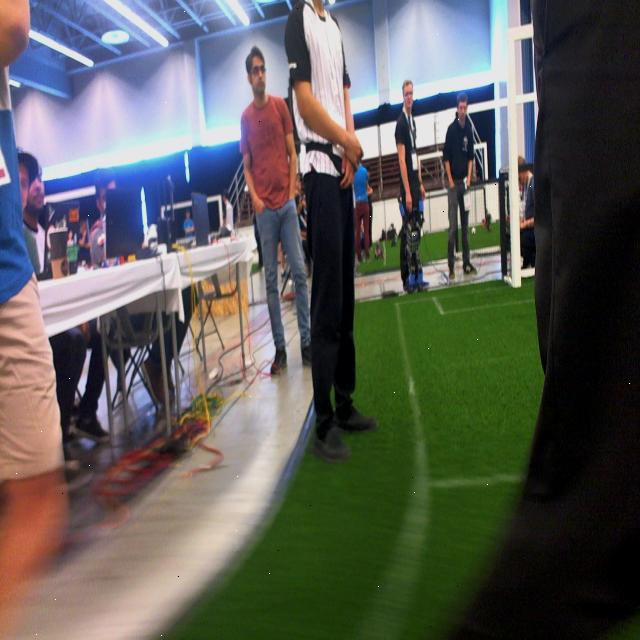goalpost: (504, 21, 520, 294)
